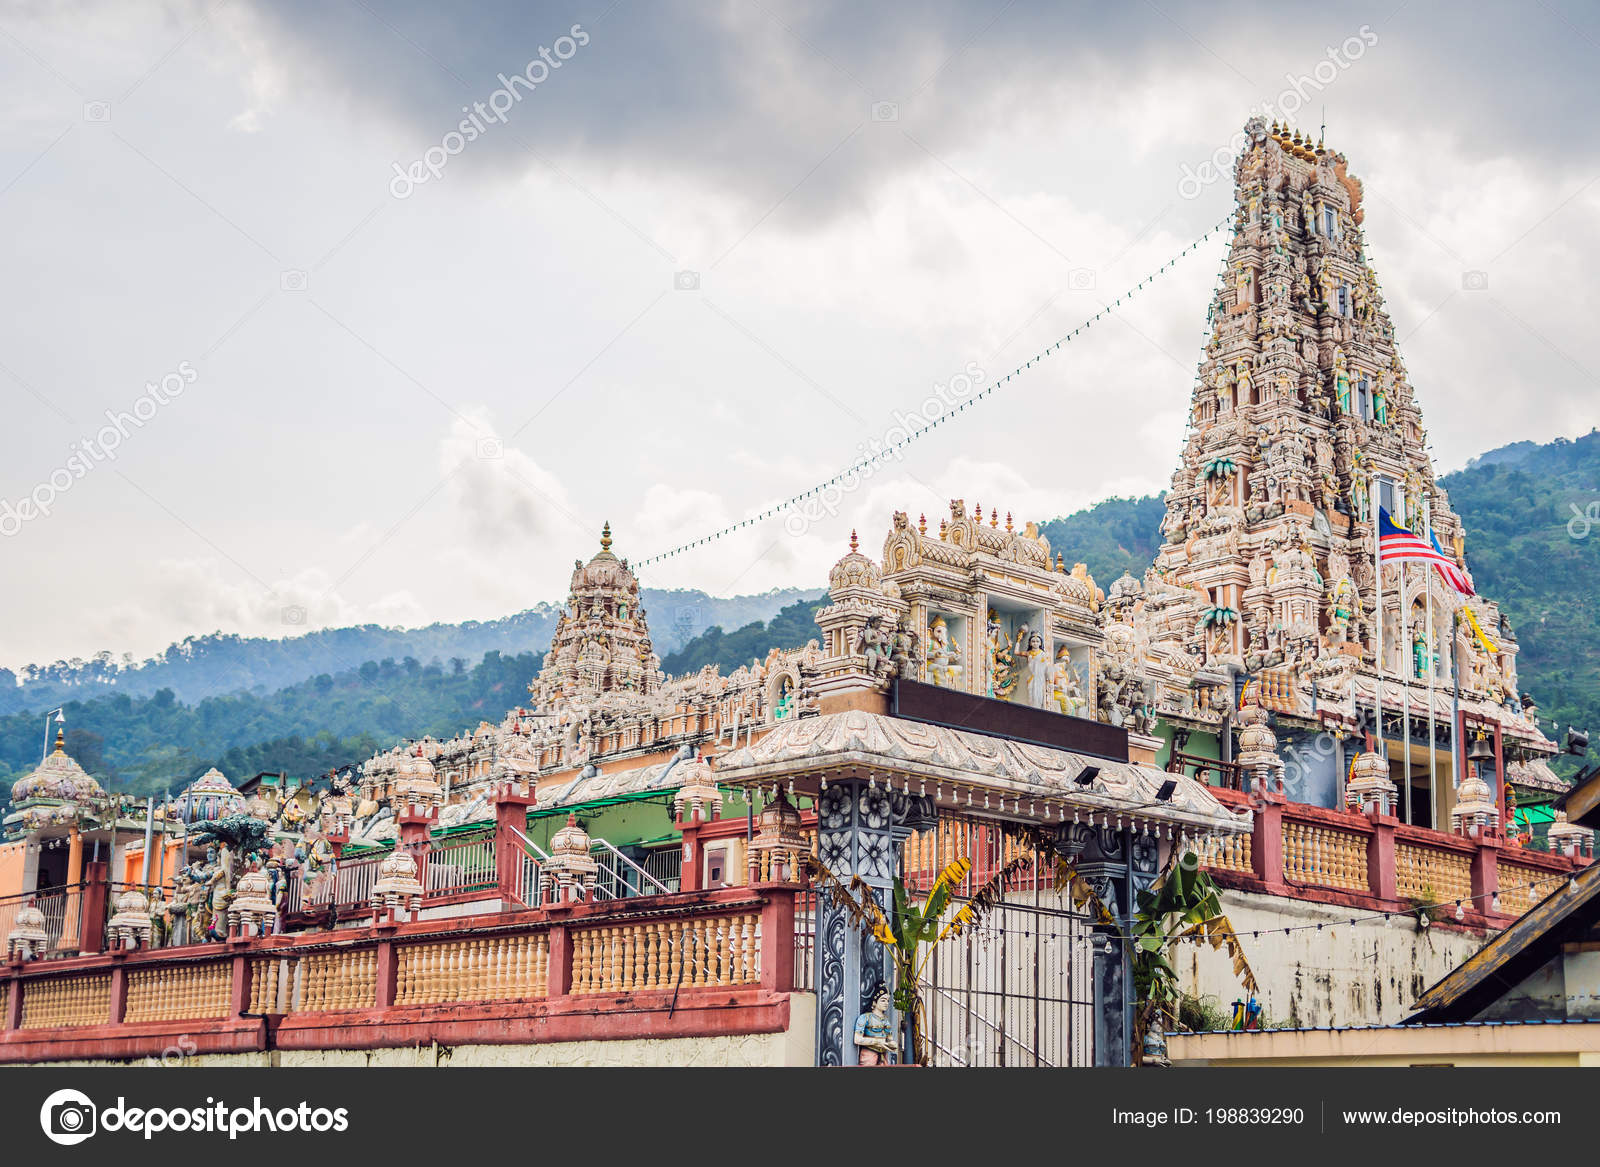Hindu Temple: (65, 103, 1558, 1037)
